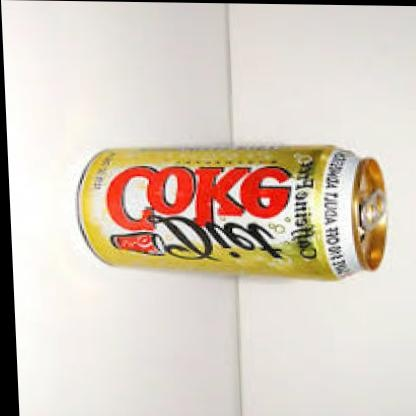trash: (78, 145, 386, 279)
